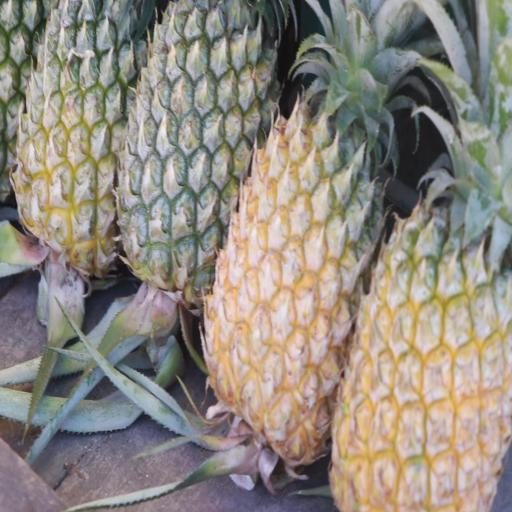------------------------------: (10, 0, 151, 281)
Pineapple - v8 v1: (198, 0, 388, 476), (328, 158, 511, 508)
